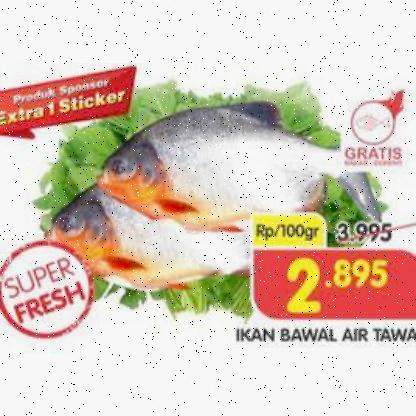ikan-pacu: (99, 102, 375, 231), (50, 184, 249, 289)
